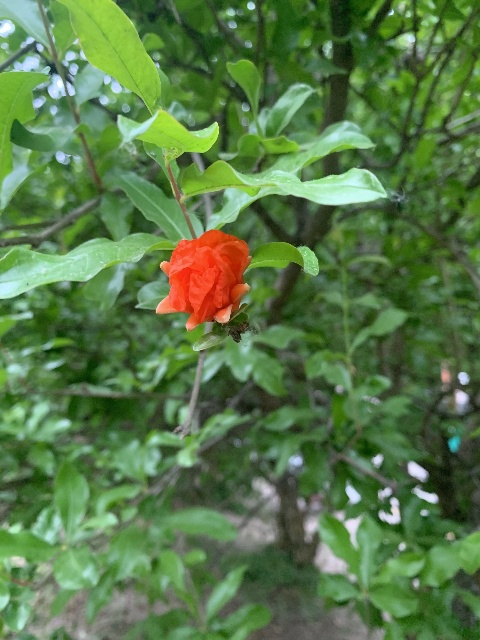flower: (156, 229, 251, 331)
